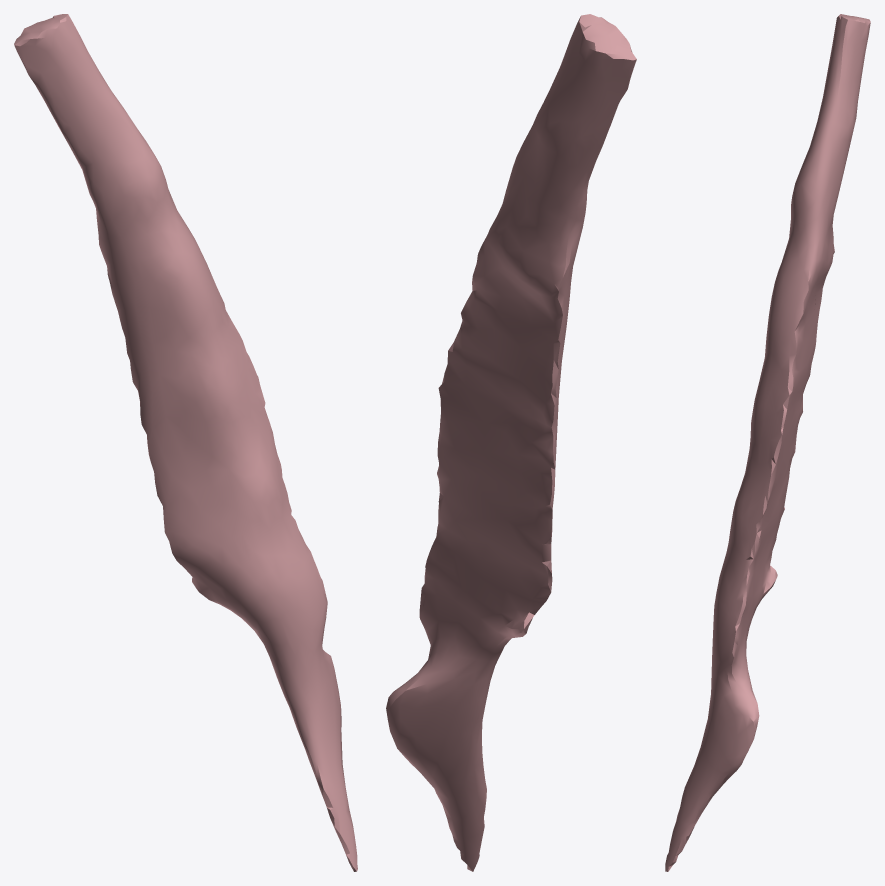
File: fma297770_mm2250m.glb
3 views of the same model, side by side, from view 1: azimuth 30°, elevation 25°; view 2: azimuth 150°, elevation 25°; view 3: azimuth 270°, elevation 25° (orthographic). The views are drawn at different scales.
Visible parts, largest first — view 1: FMA297770_MM2250M; view 2: FMA297770_MM2250M; view 3: FMA297770_MM2250M.
Boxes of the visible parts, box(x1,y1,x2,y2) form: FMA297770_MM2250M: box(14, 14, 357, 871); FMA297770_MM2250M: box(386, 14, 636, 871); FMA297770_MM2250M: box(665, 14, 870, 871).
Bounding box in the file's own units: 0.0381 × 0.1147 × 0.0278.
